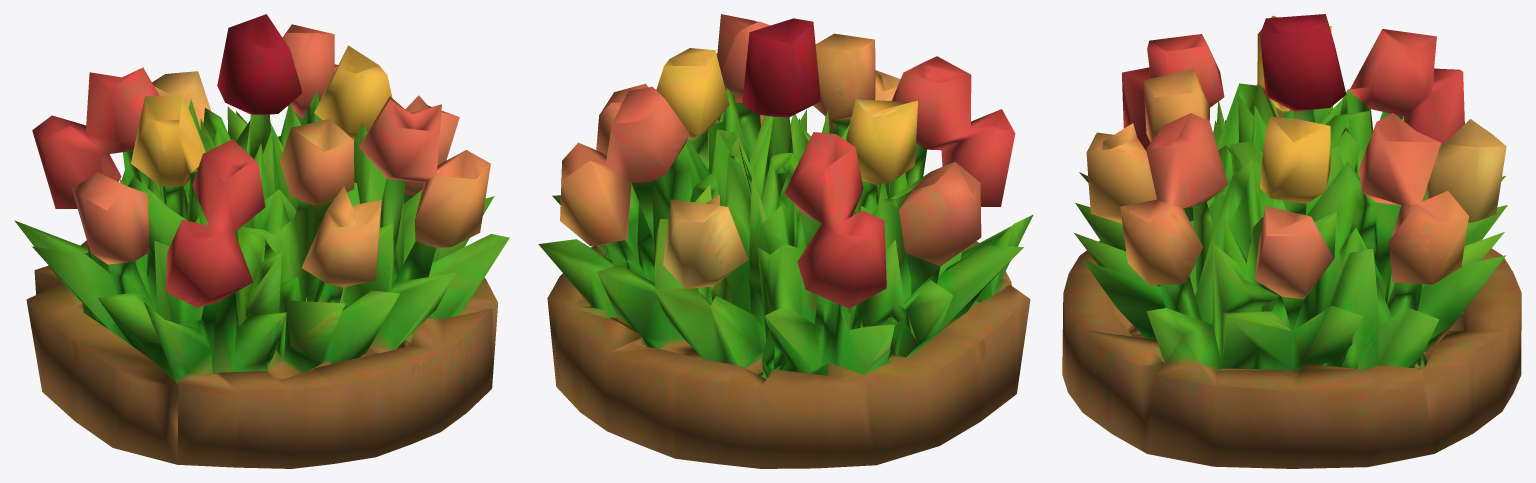
File: tulips.glb
The picture shows the model from 3 angles, left to right: view 1: azimuth 30°, elevation 25°; view 2: azimuth 150°, elevation 25°; view 3: azimuth 270°, elevation 25°; orthographic projection. The views are drawn at different scales.
Parts seen in each view (by area): view 1: model; view 2: model; view 3: model.
Part boxes in pixels (box(x1,y1,x2,y2)): model: box(14, 14, 509, 468); model: box(538, 14, 1033, 468); model: box(1062, 14, 1521, 468).
Bounding box in the file's own units: 1.92 × 1.6 × 1.87.
Materials: 1 (1 with a texture image).
